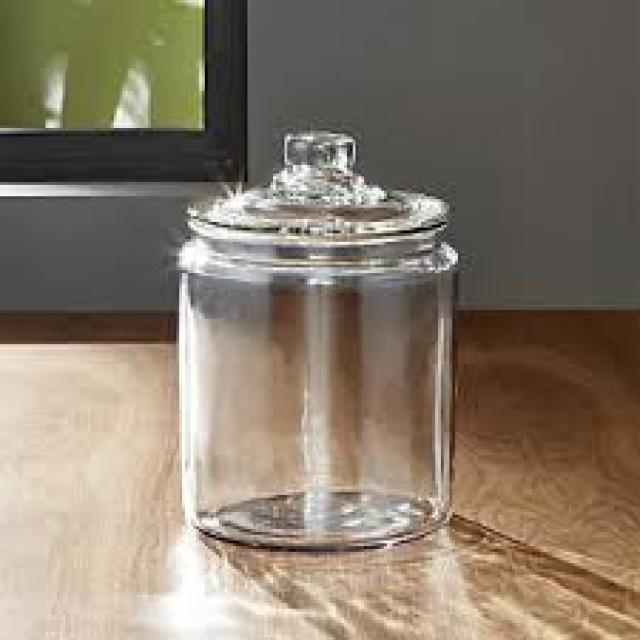glass: (176, 128, 458, 549)
